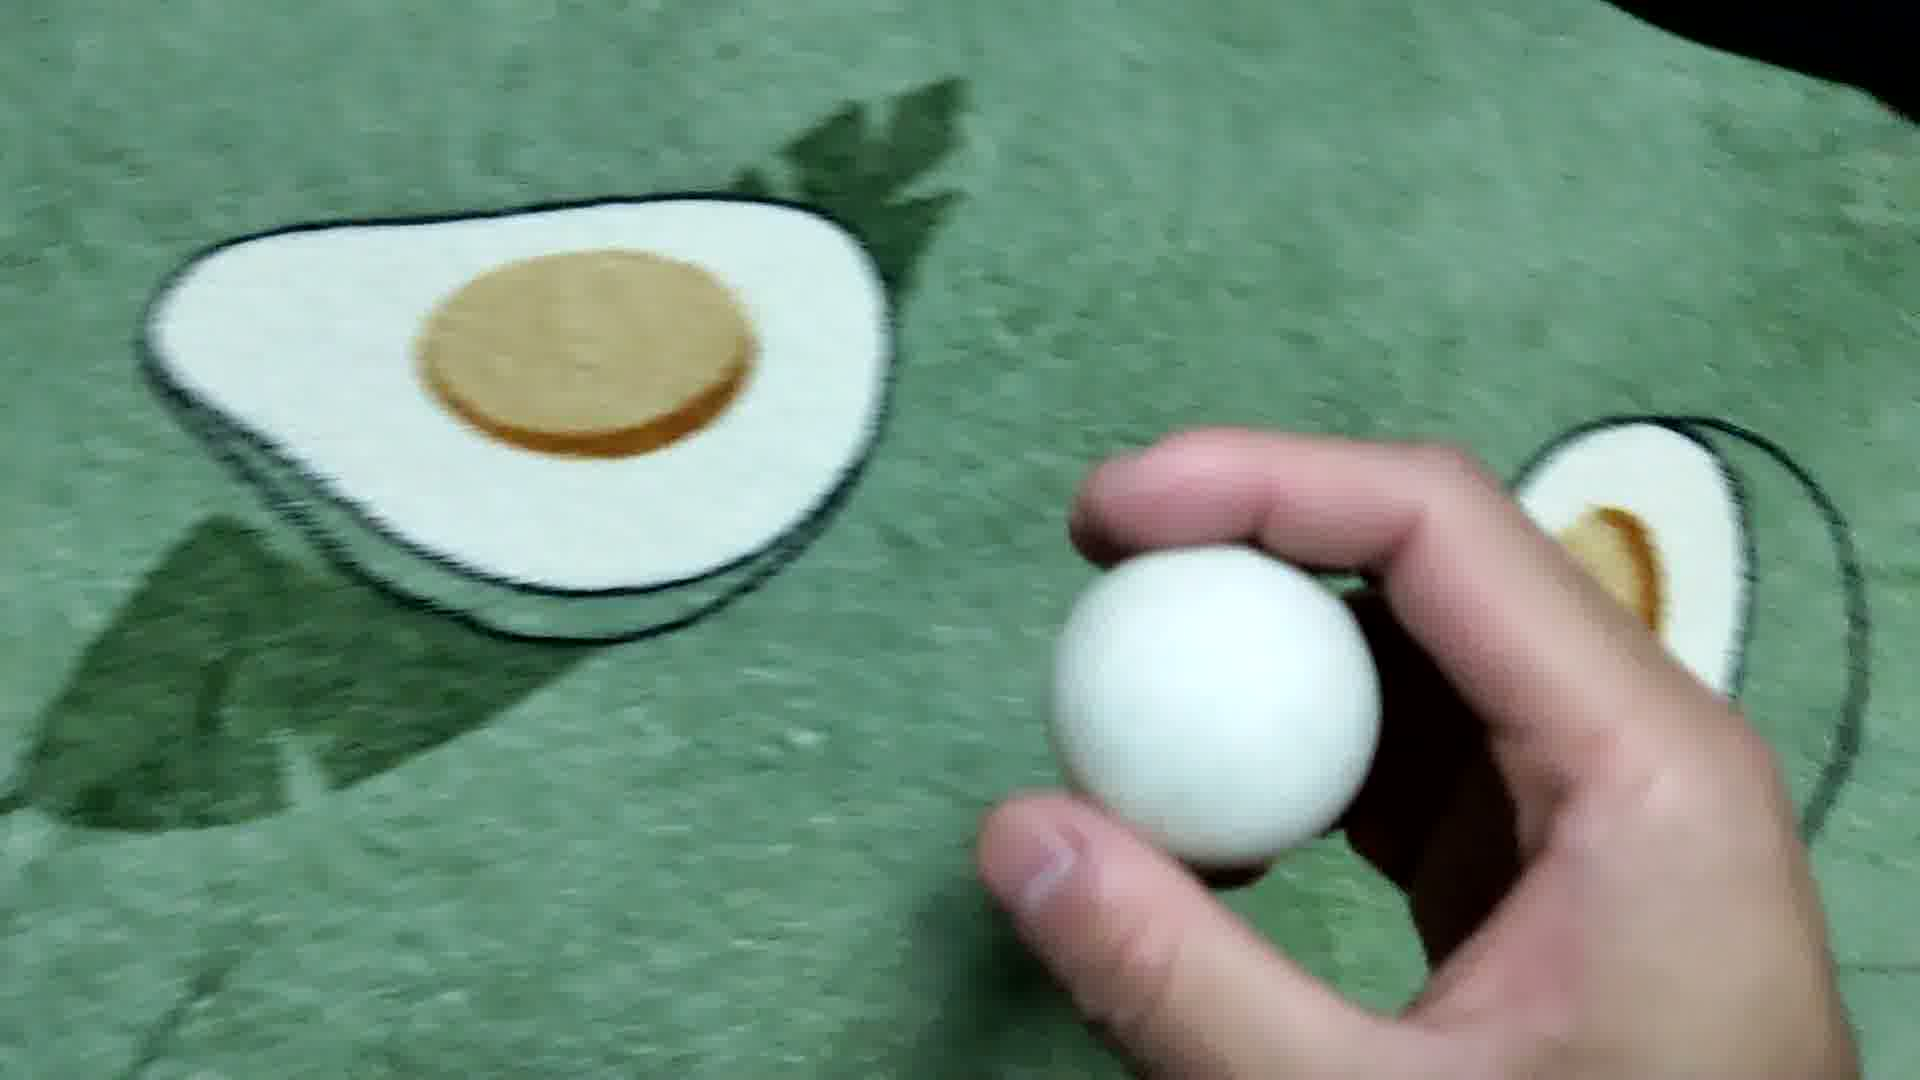Ball: (1046, 542, 1383, 866)
